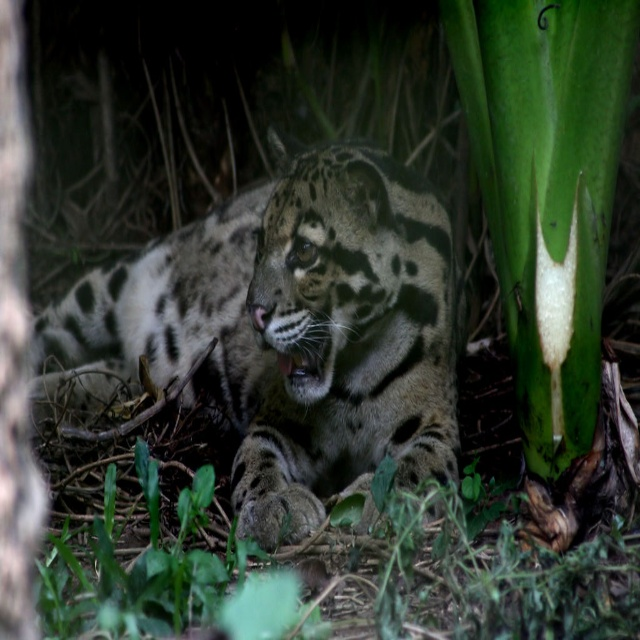Leopard: (29, 123, 460, 552)
